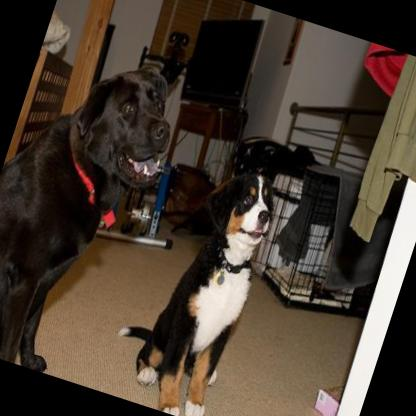Bernese_mountain_dog: (98, 142, 288, 416)
